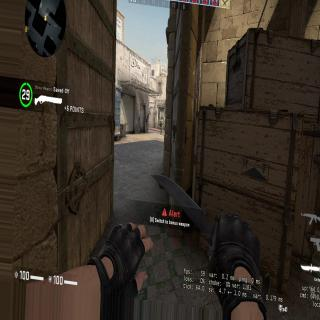CT-Body: (159, 118, 163, 134)
CT-Head: (161, 119, 163, 122)
